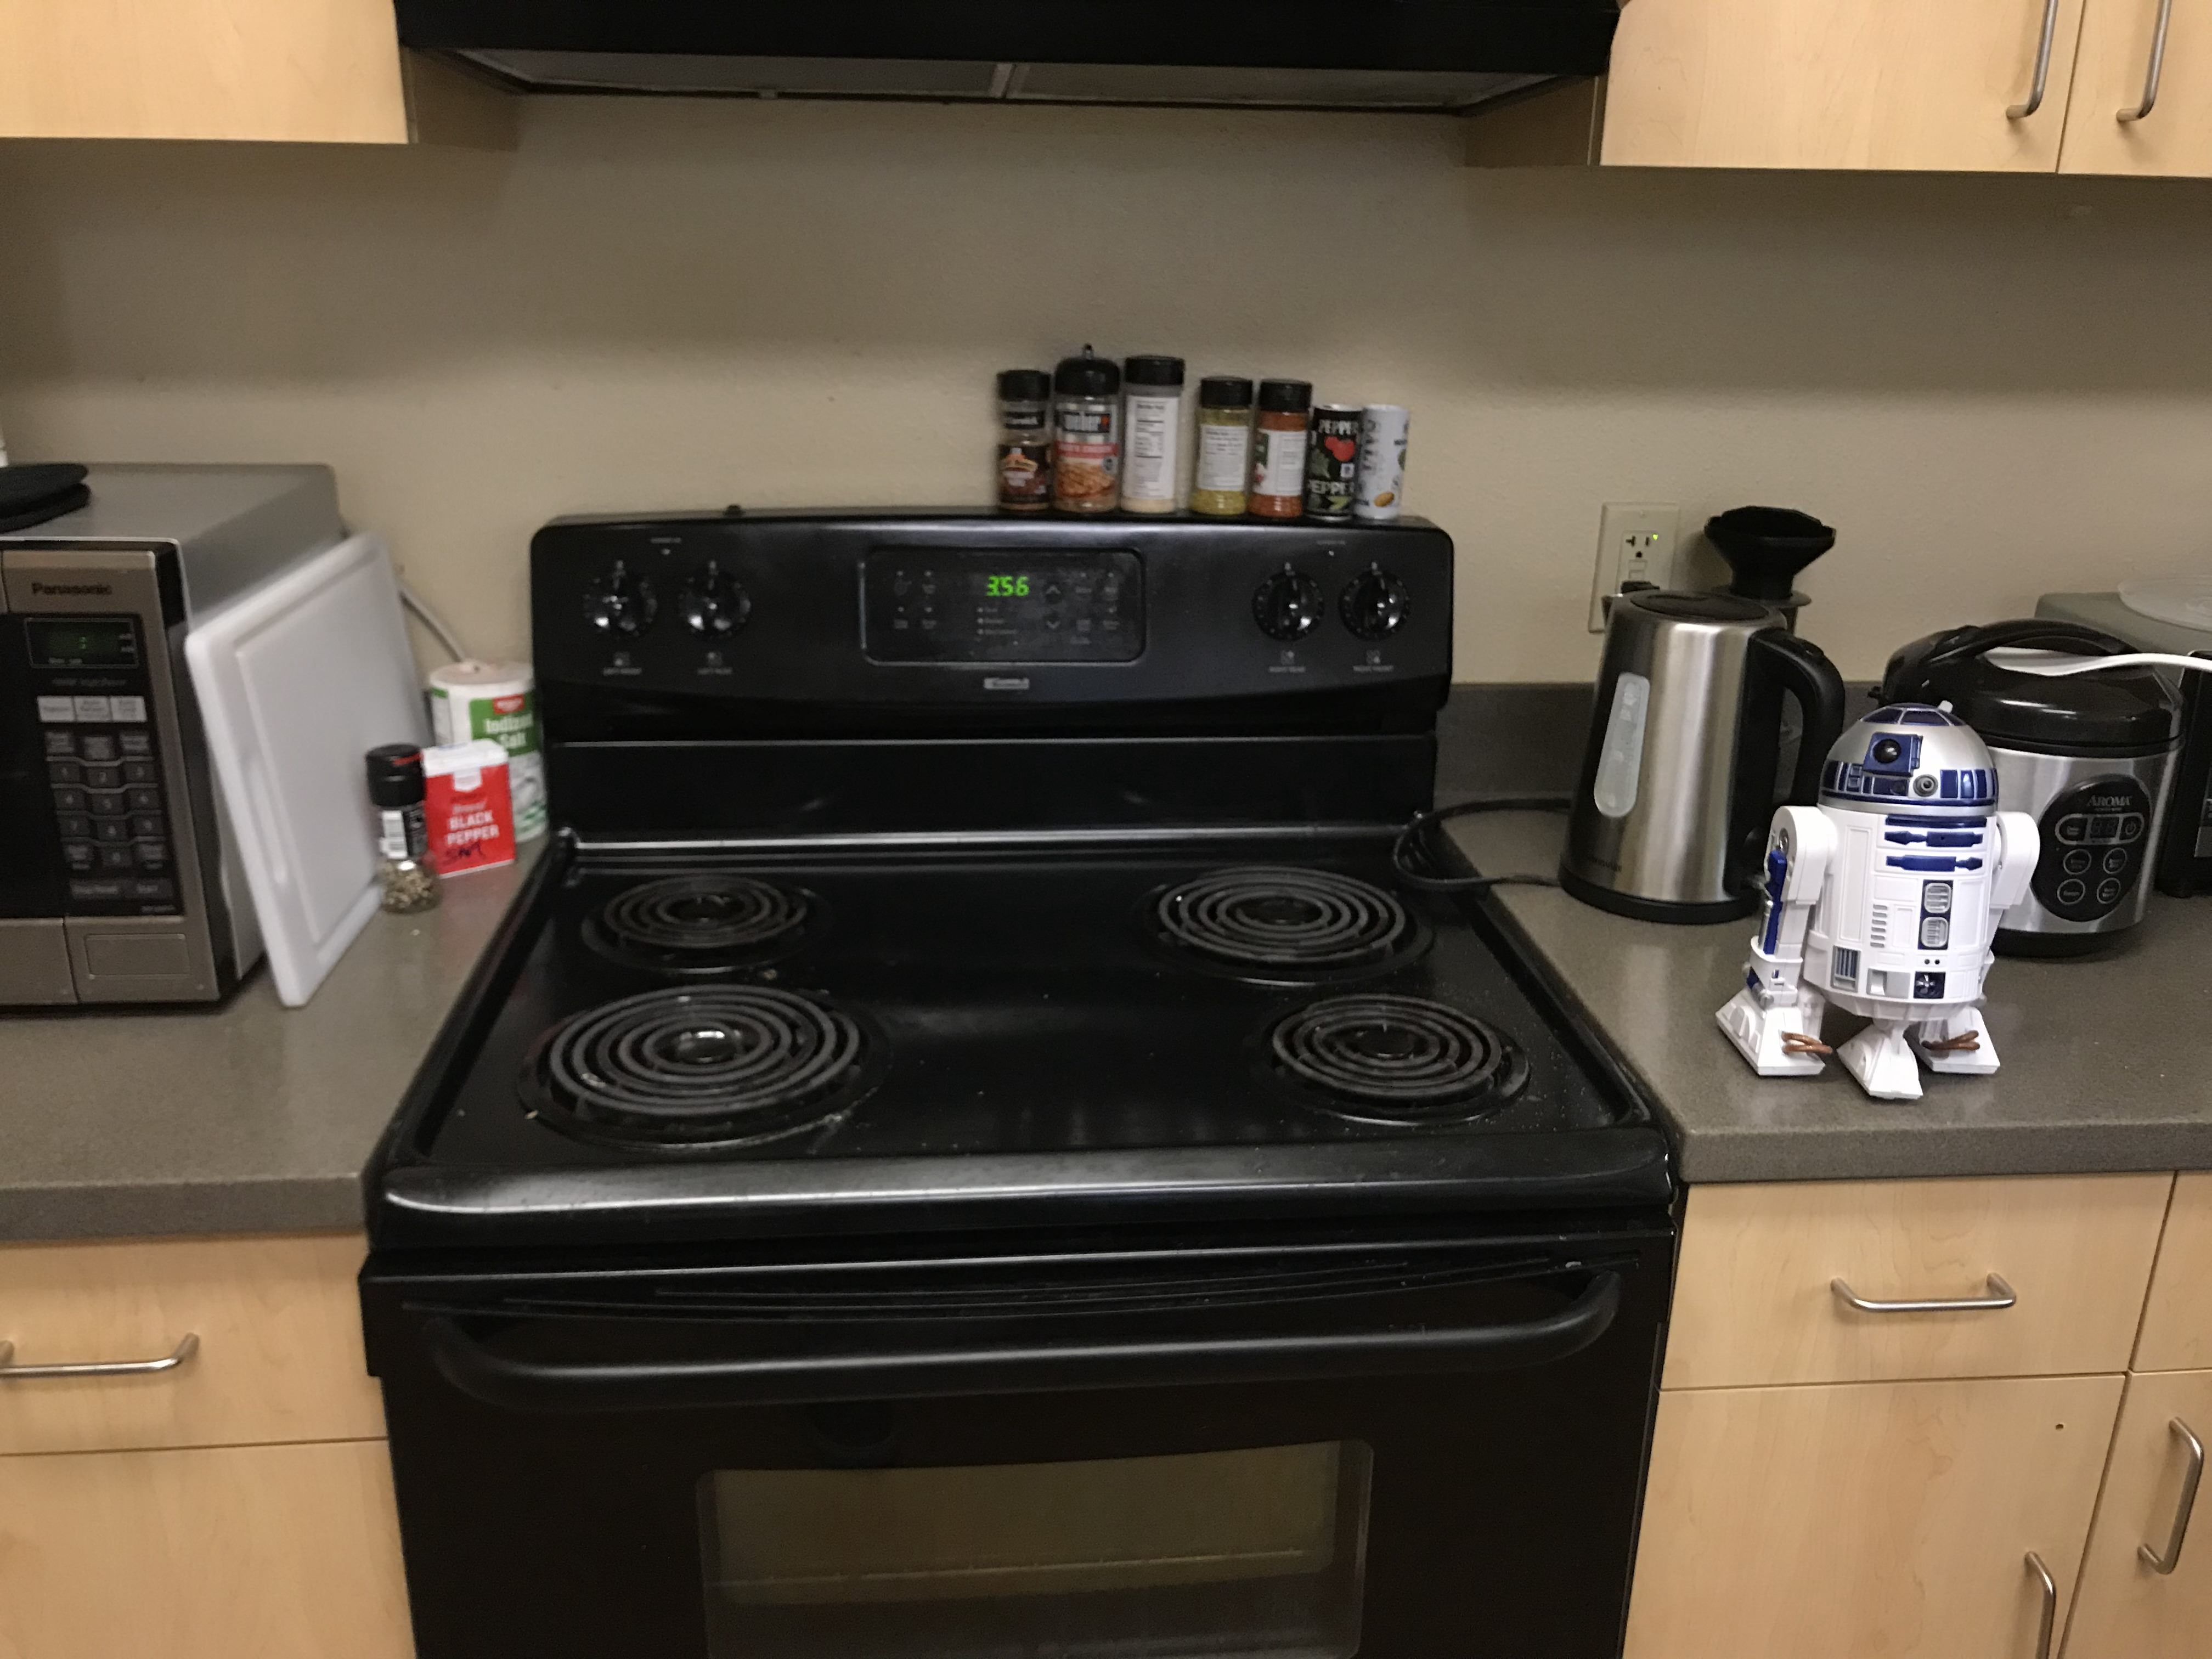r2d2: (1712, 697, 2041, 1103)
